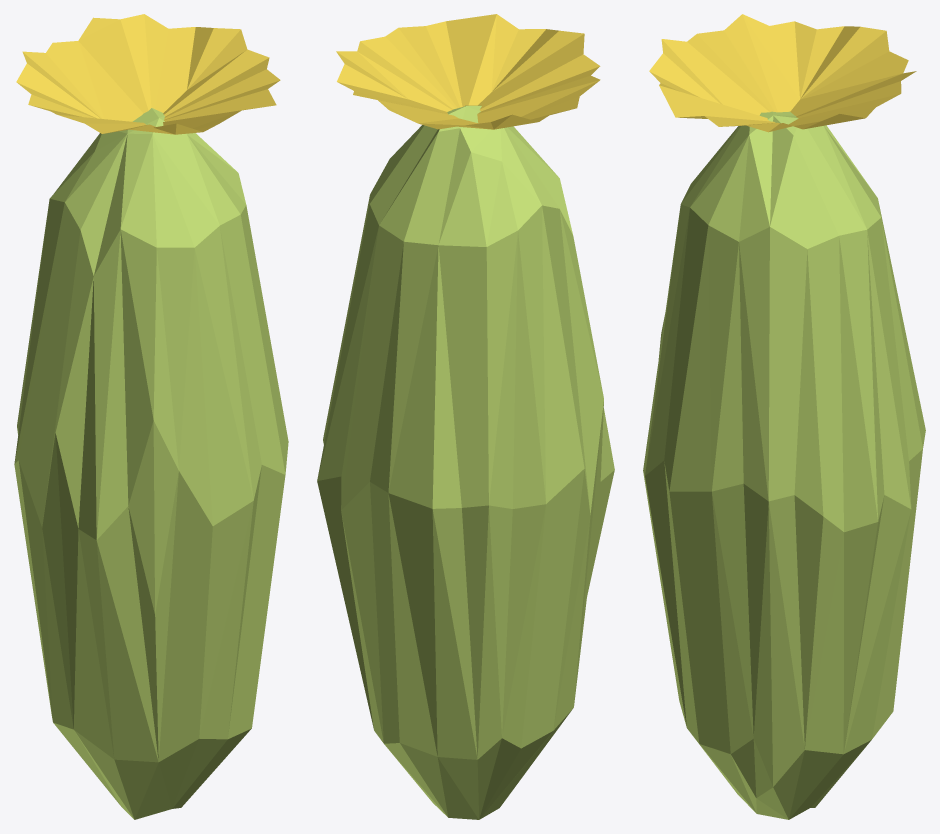
Rendered from _actus3.fbx.
The picture shows the model from 3 angles, left to right: view 1: azimuth 30°, elevation 25°; view 2: azimuth 150°, elevation 25°; view 3: azimuth 270°, elevation 25°; orthographic projection.
Parts seen in each view (by area): view 1: Sphere.008; view 2: Sphere.008; view 3: Sphere.008.
Part boxes in pixels (bbox=[...]): Sphere.008: bbox=[14, 14, 288, 819]; Sphere.008: bbox=[317, 14, 614, 819]; Sphere.008: bbox=[643, 14, 925, 819].
Bounding box in the file's own units: 20.45 × 57.89 × 19.93.
